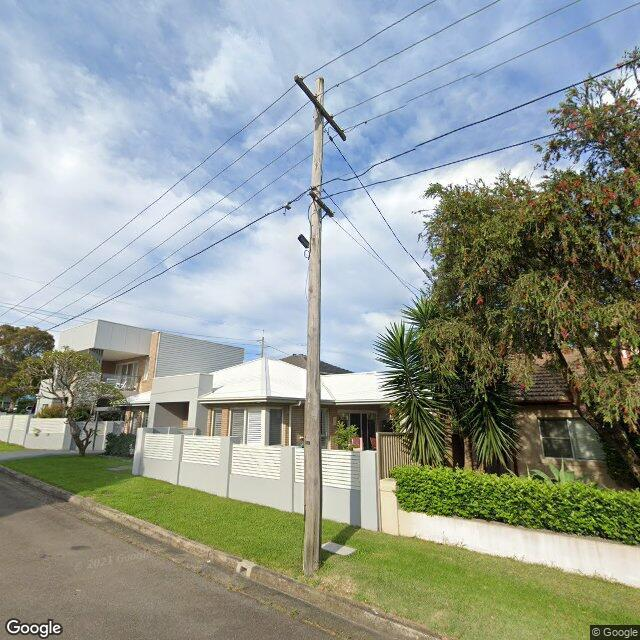crossarm: (293, 75, 348, 142)
timber-pole: (300, 77, 326, 576)
